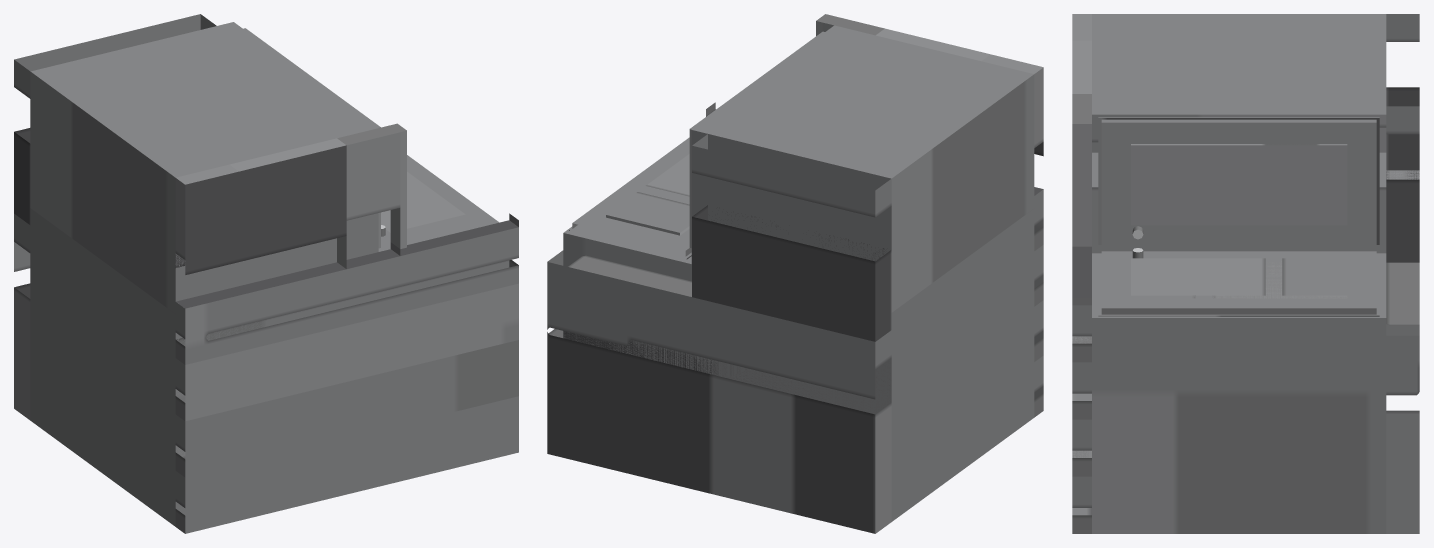
3 renders of one model, left to right at view 1: azimuth 30°, elevation 25°; view 2: azimuth 150°, elevation 25°; view 3: azimuth 270°, elevation 25°, orthographic. The views are drawn at different scales.
Size of the model in its own units: 1 by 1 by 0.888.
